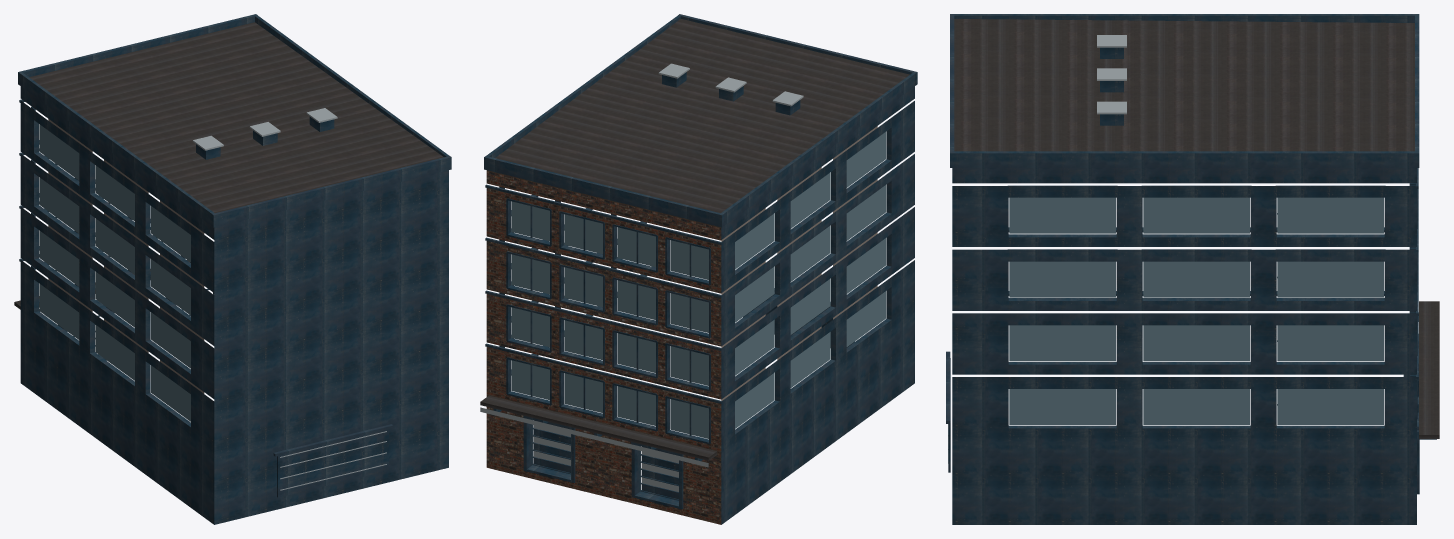
Rendered from crane_gear_warehouse.gltf.
The picture shows the model from 3 angles, left to right: view 1: azimuth 30°, elevation 25°; view 2: azimuth 150°, elevation 25°; view 3: azimuth 270°, elevation 25°; orthographic projection. The views are drawn at different scales.
Visible parts, largest first — view 1: CRANE_GEAR_PBR_CLOSED_ENVELOPE; view 2: CRANE_GEAR_PBR_CLOSED_ENVELOPE; view 3: CRANE_GEAR_PBR_CLOSED_ENVELOPE.
Part boxes in pixels (x1=…): CRANE_GEAR_PBR_CLOSED_ENVELOPE: x1=14, y1=14, x2=451, y2=524; CRANE_GEAR_PBR_CLOSED_ENVELOPE: x1=480, y1=14, x2=917, y2=524; CRANE_GEAR_PBR_CLOSED_ENVELOPE: x1=946, y1=14, x2=1439, y2=524.
Size of the model in its own units: 16.32 by 20.9 by 24.46.
Materials: 6 (3 with a texture image).
